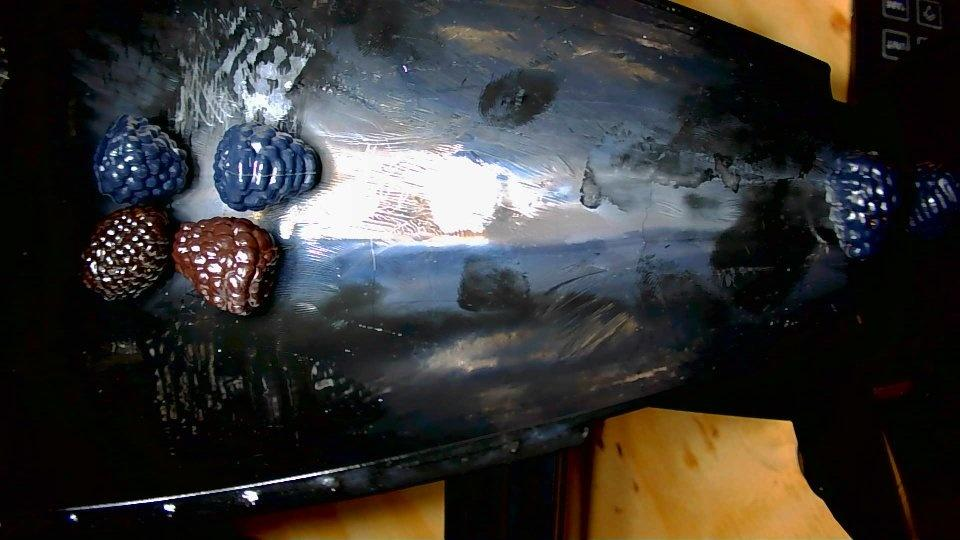berry: (172, 217, 279, 315), (213, 123, 320, 210), (81, 206, 169, 300), (94, 116, 185, 204), (826, 153, 899, 259), (909, 164, 959, 235)
